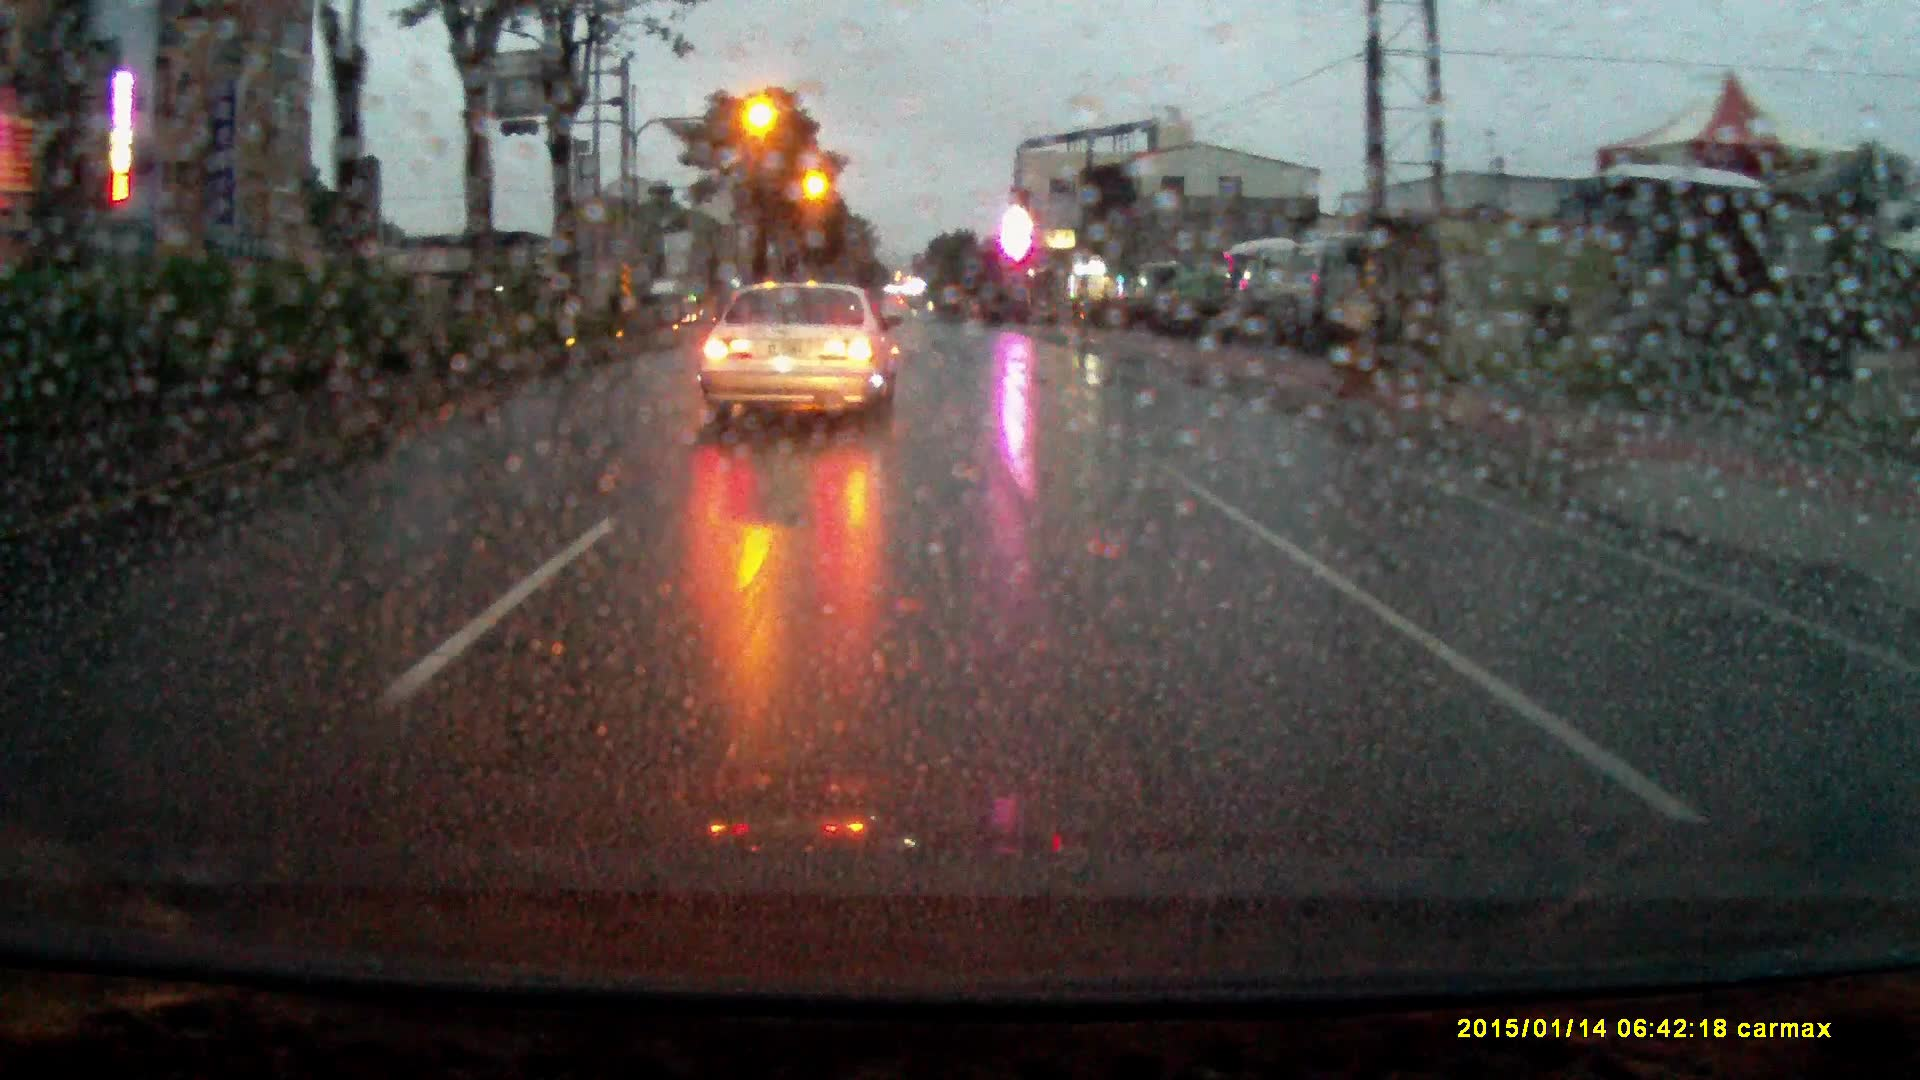vehicle: (698, 276, 905, 444), (1316, 232, 1407, 343), (1226, 243, 1320, 345), (1134, 262, 1189, 332), (1160, 266, 1225, 322), (650, 282, 699, 330)
